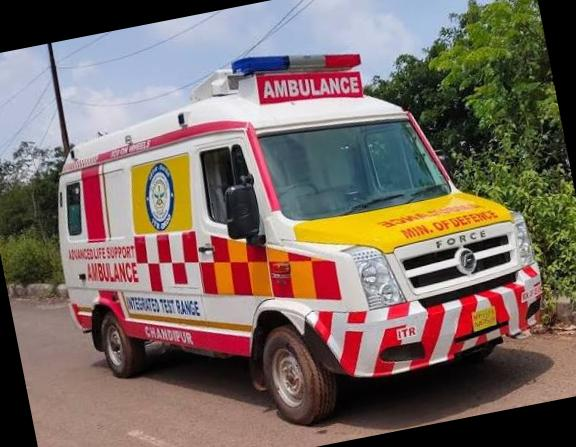ambulance: (30, 8, 556, 447)
